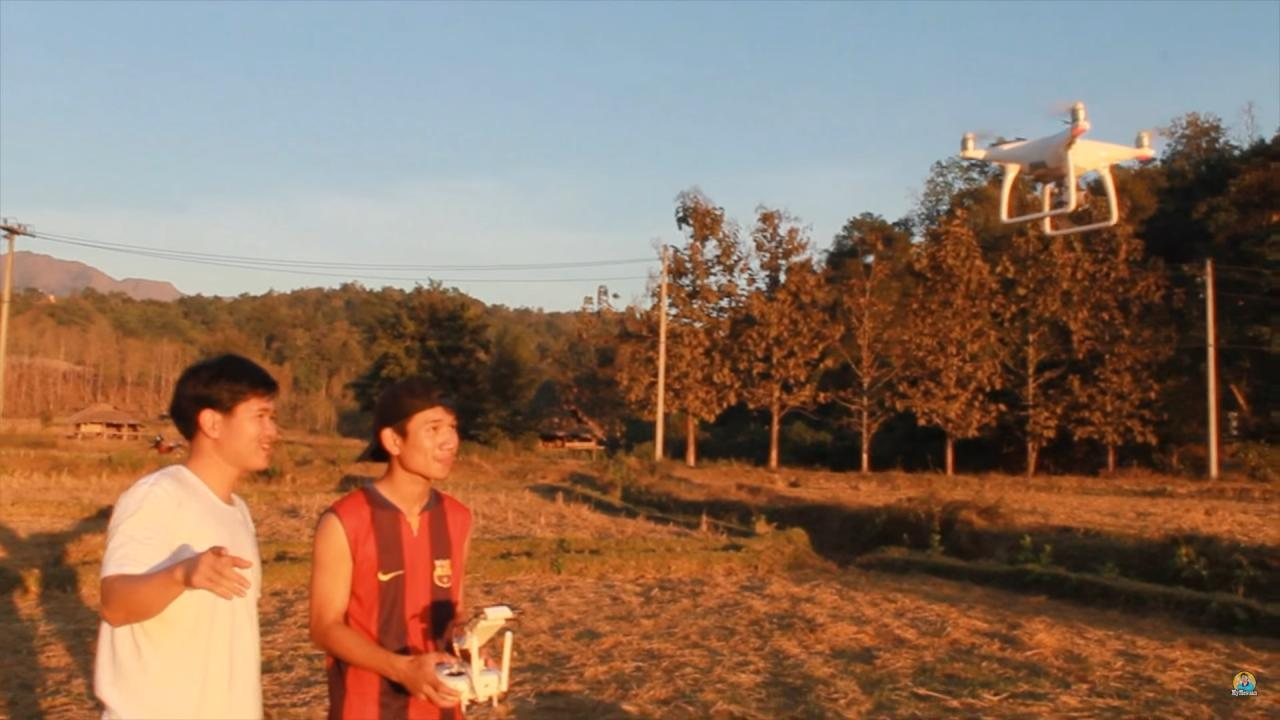Drone: (937, 87, 1187, 247)
